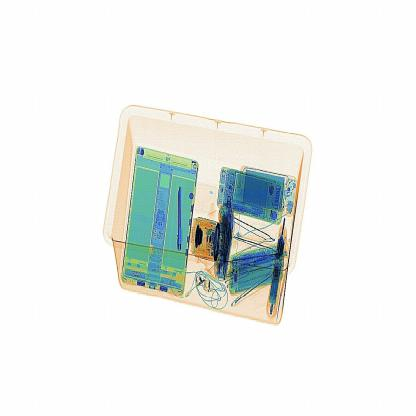pliers: (166, 179, 189, 256)
